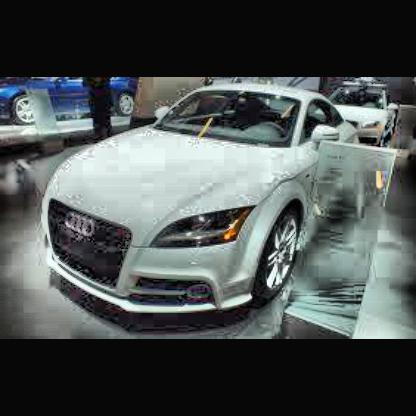Audi TTS Coupe 2012: (44, 86, 400, 324)
